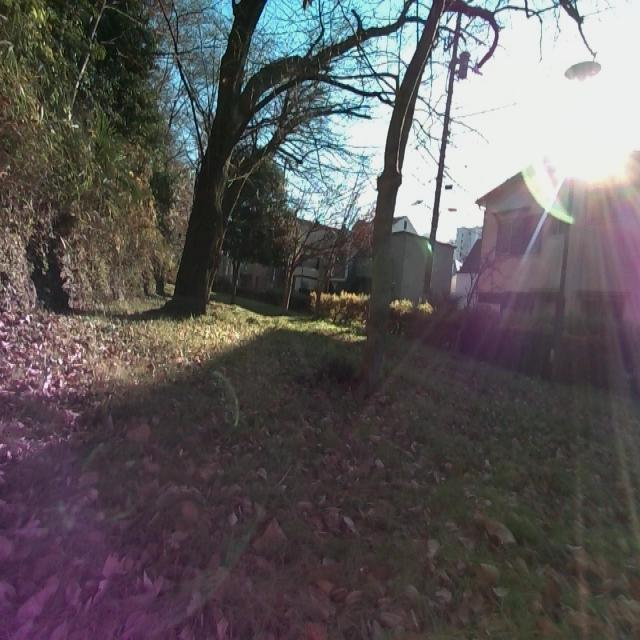artifact: (471, 124, 638, 336), (418, 2, 467, 306)
bush: (3, 0, 167, 304)
tree: (157, 0, 396, 317), (356, 0, 523, 341)
